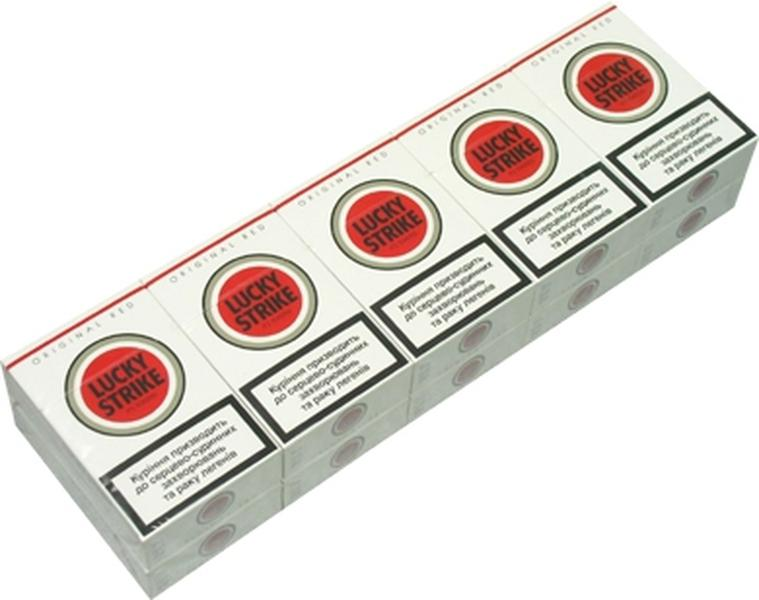lucky_strike_red: (34, 330, 199, 482), (197, 246, 329, 398), (318, 174, 462, 312), (443, 96, 580, 233), (552, 37, 690, 151)
